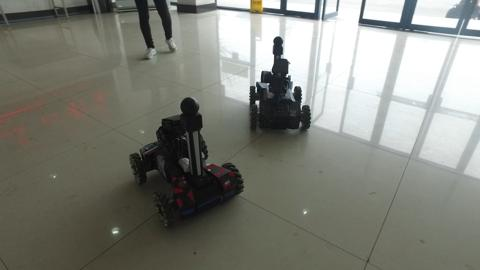chariot: (122, 92, 249, 235), (242, 33, 320, 135)
